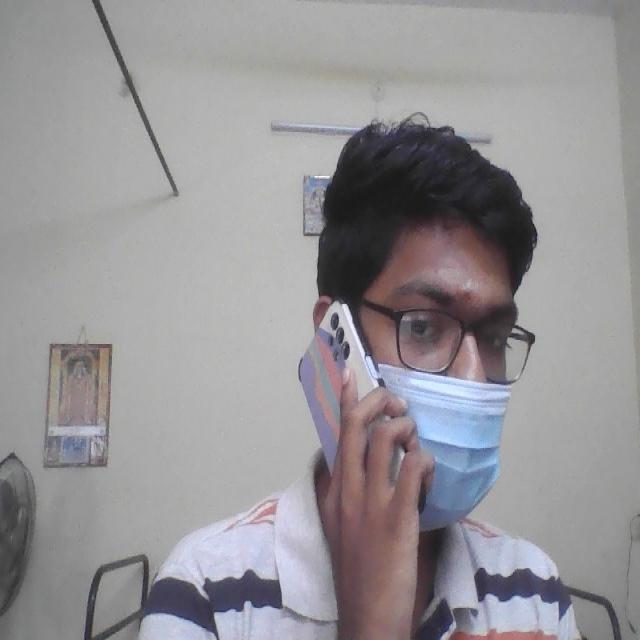Mobile: (290, 281, 394, 471)
